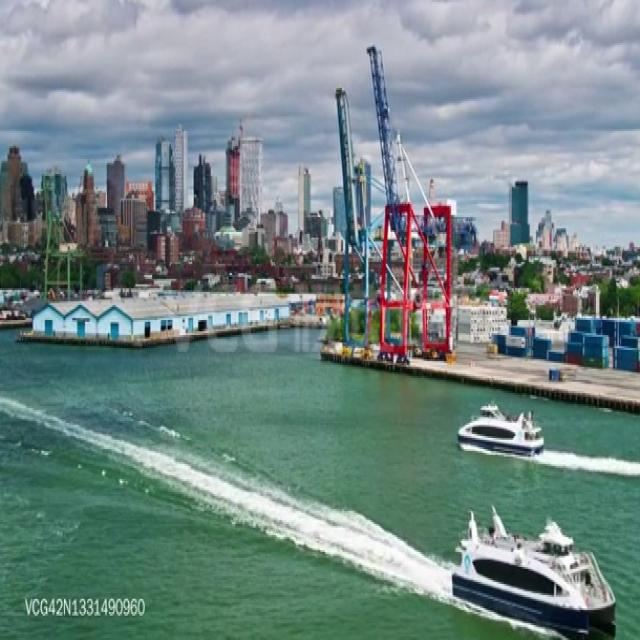houseboat: (454, 504, 619, 635), (452, 400, 548, 460)
